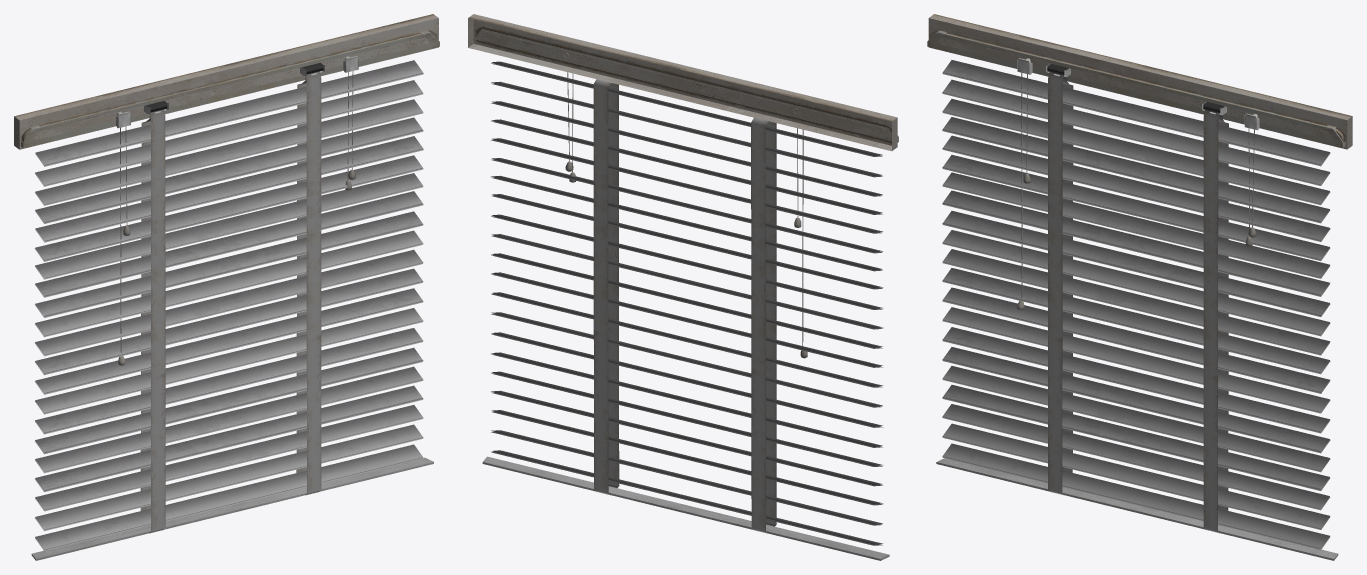
File: 124_StarsBlind.fbx
The picture shows the model from 3 angles, left to right: view 1: azimuth 30°, elevation 25°; view 2: azimuth 150°, elevation 25°; view 3: azimuth 330°, elevation 25°; orthographic projection.
Visible parts, largest first — view 1: LOD_1_Group_0_Sub_1__sm30_124_STARSBlind01A_C_Mat; view 2: LOD_1_Group_0_Sub_1__sm30_124_STARSBlind01A_C_Mat; view 3: LOD_1_Group_0_Sub_1__sm30_124_STARSBlind01A_C_Mat.
Boxes of the visible parts, <box> form: LOD_1_Group_0_Sub_1__sm30_124_STARSBlind01A_C_Mat: <box>14,14,439,560</box>; LOD_1_Group_0_Sub_1__sm30_124_STARSBlind01A_C_Mat: <box>468,14,898,560</box>; LOD_1_Group_0_Sub_1__sm30_124_STARSBlind01A_C_Mat: <box>927,14,1352,560</box>.
Bounding box in the file's own units: 1.51 × 1.52 × 0.077.
